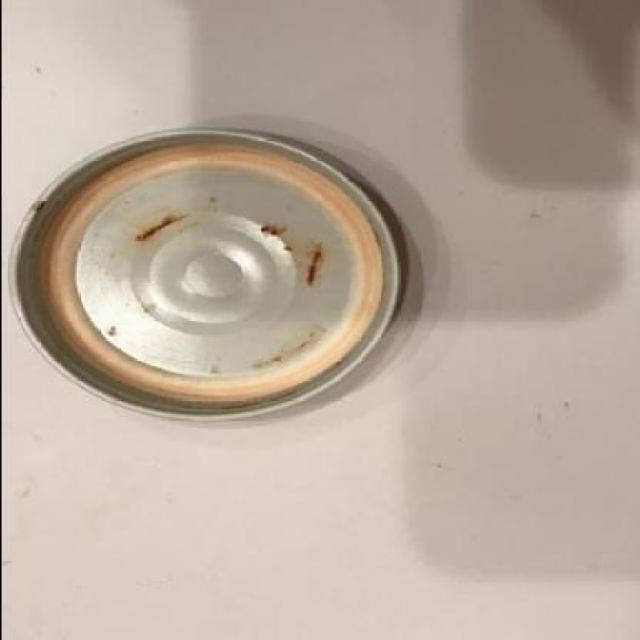METAL: (3, 127, 402, 425)
